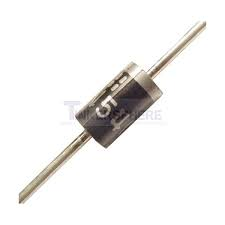diode: (57, 41, 179, 155)
